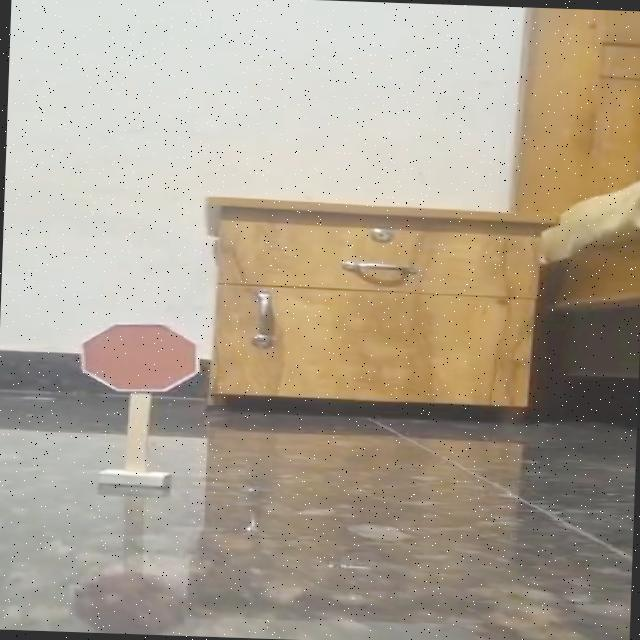Stop: (49, 308, 229, 406)
